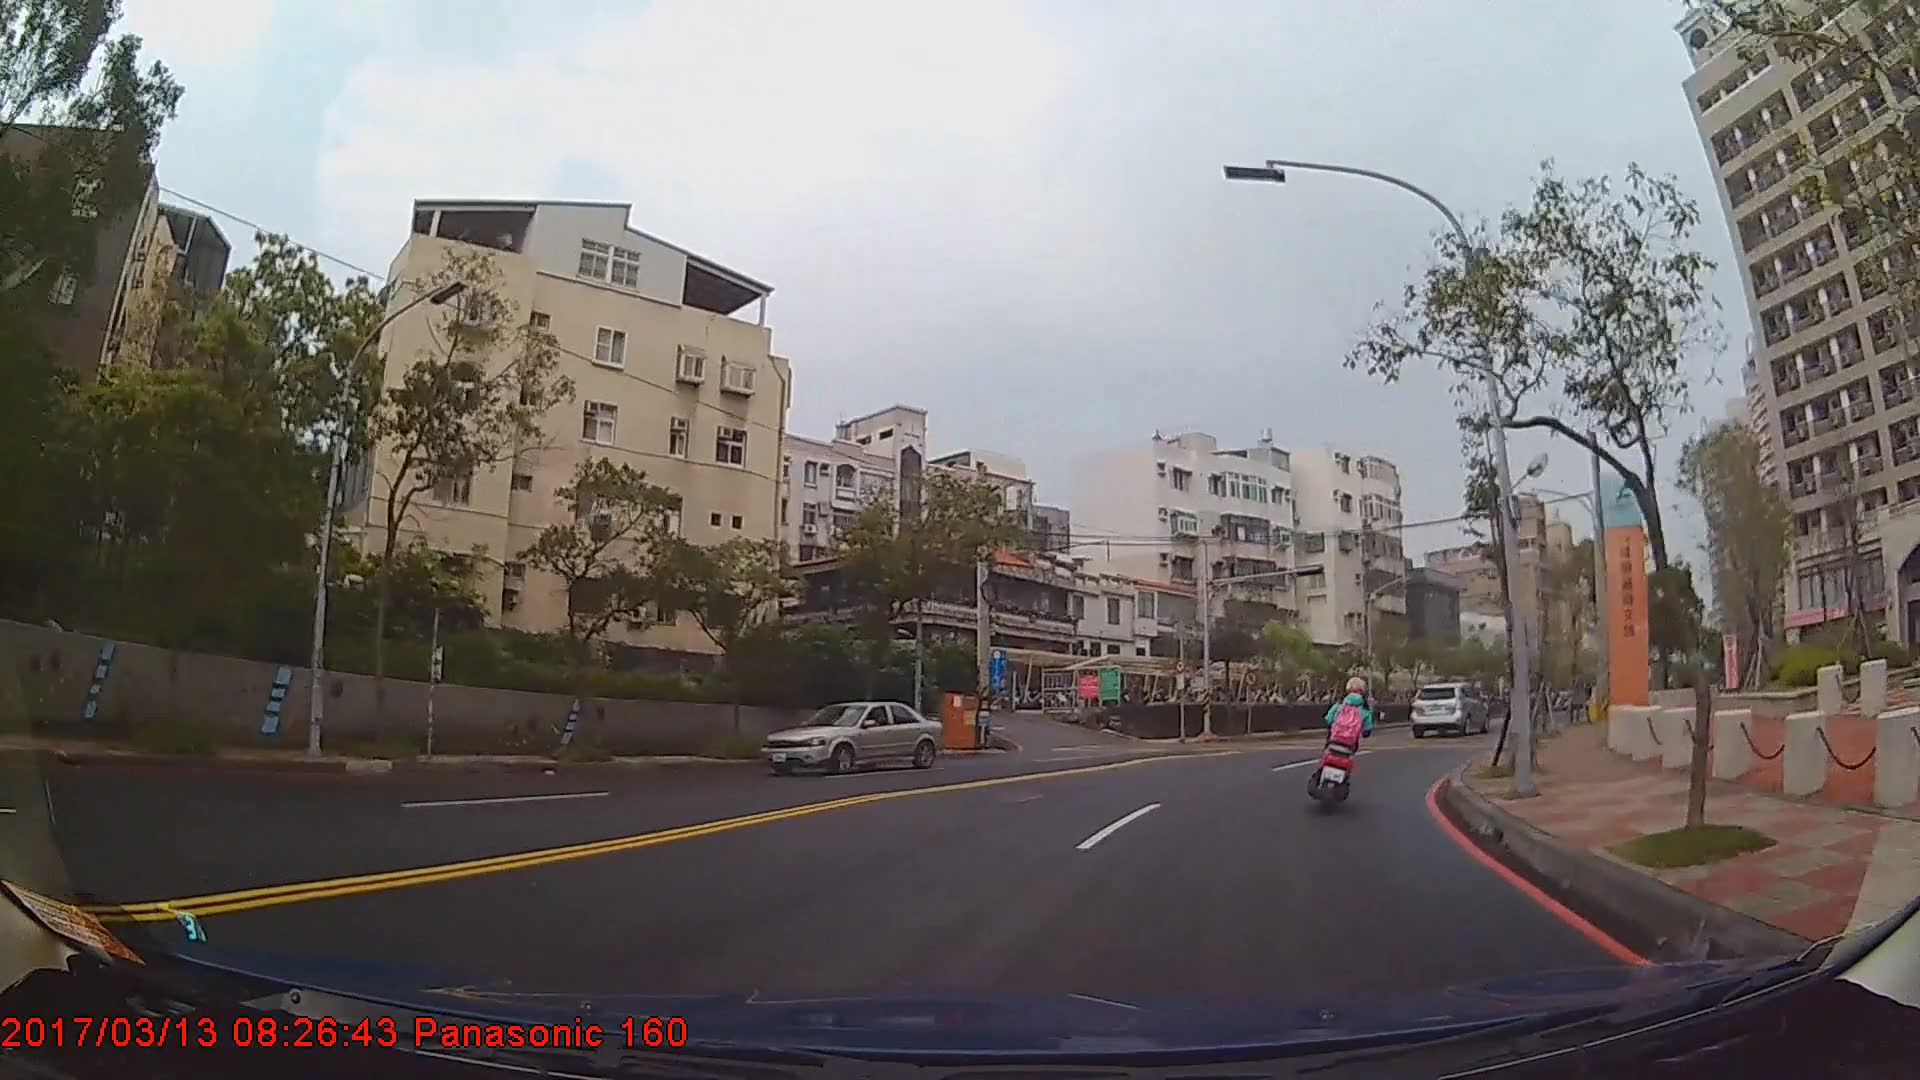rider: (1318, 676, 1377, 805)
vehicle: (757, 699, 945, 774), (1406, 681, 1489, 735)
